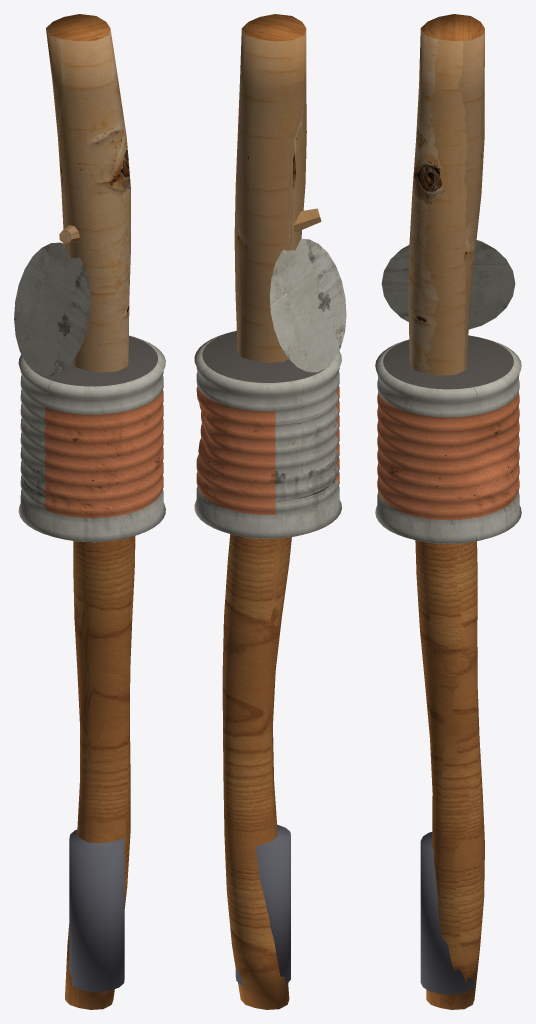
The model's file is pekar.glb.
The picture shows the model from 3 angles, left to right: view 1: azimuth 30°, elevation 25°; view 2: azimuth 150°, elevation 25°; view 3: azimuth 270°, elevation 25°; orthographic projection.
Parts seen in each view (by area): view 1: palka, can, palka-tape, can-lid; view 2: palka, can, can-lid, palka-tape, palka-knot0.8; view 3: palka, can, can-lid, palka-tape.
Part boxes in pixels (x1,y1,x2,y2): palka: (46, 14, 135, 1009); can: (18, 335, 165, 542); palka-tape: (69, 829, 124, 991); can-lid: (14, 242, 90, 375); palka: (222, 14, 306, 1009); can: (194, 330, 341, 538); can-lid: (269, 239, 346, 372); palka-tape: (235, 824, 290, 987); palka-knot0.8: (293, 208, 321, 231); palka: (408, 14, 484, 1009); can: (375, 335, 521, 543); can-lid: (381, 240, 515, 329); palka-tape: (420, 832, 476, 994).
Bounding box in the file's own units: 0.103 × 0.75 × 0.103.
7 materials, 5 textured.
